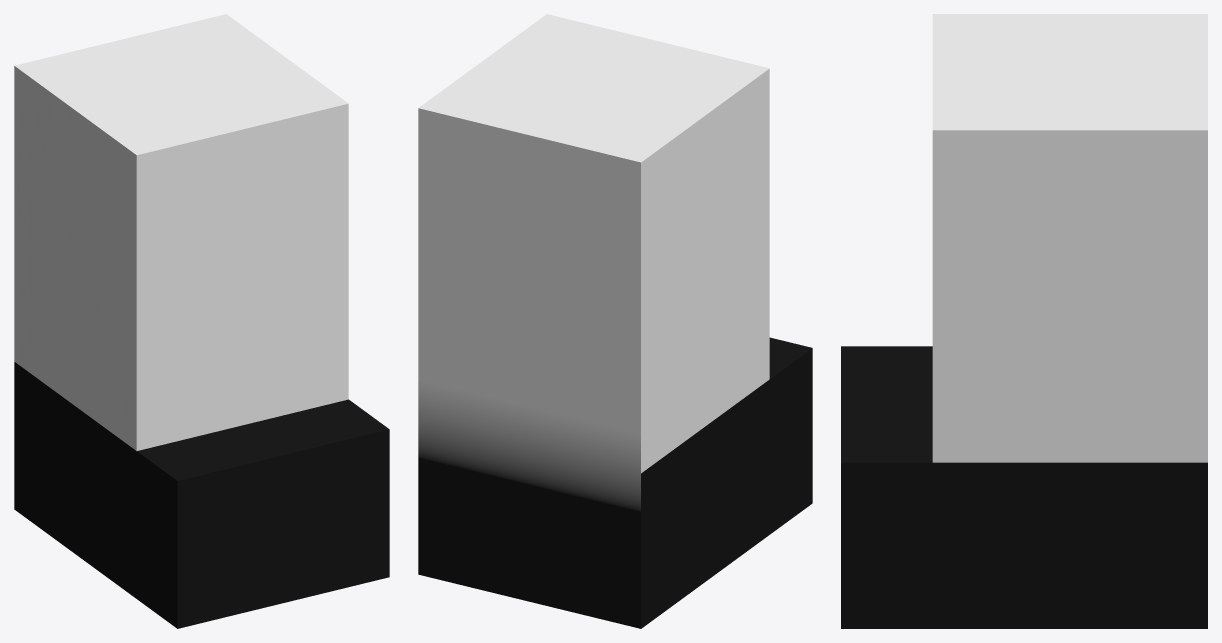
The model's file is rngesus_legR.fbx.
3 renders of one model, left to right at view 1: azimuth 30°, elevation 25°; view 2: azimuth 150°, elevation 25°; view 3: azimuth 270°, elevation 25°, orthographic. The views are drawn at different scales.
Visible parts, largest first — view 1: rngesus_legR; view 2: rngesus_legR; view 3: rngesus_legR.
Boxes of the visible parts, x1,y1,x2,y2 form: rngesus_legR: [14, 14, 389, 628]; rngesus_legR: [418, 14, 812, 628]; rngesus_legR: [841, 14, 1207, 628].
Size of the model in its own units: 3 by 6 by 4.
1 material, 1 textured.
